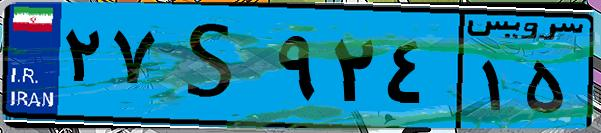1: (475, 38, 525, 113)
2: (330, 28, 385, 110), (57, 26, 110, 100)
4: (385, 28, 445, 110)
5: (525, 38, 570, 115)
7: (110, 28, 158, 98)
9: (270, 28, 330, 110)
S: (158, 12, 270, 120)
